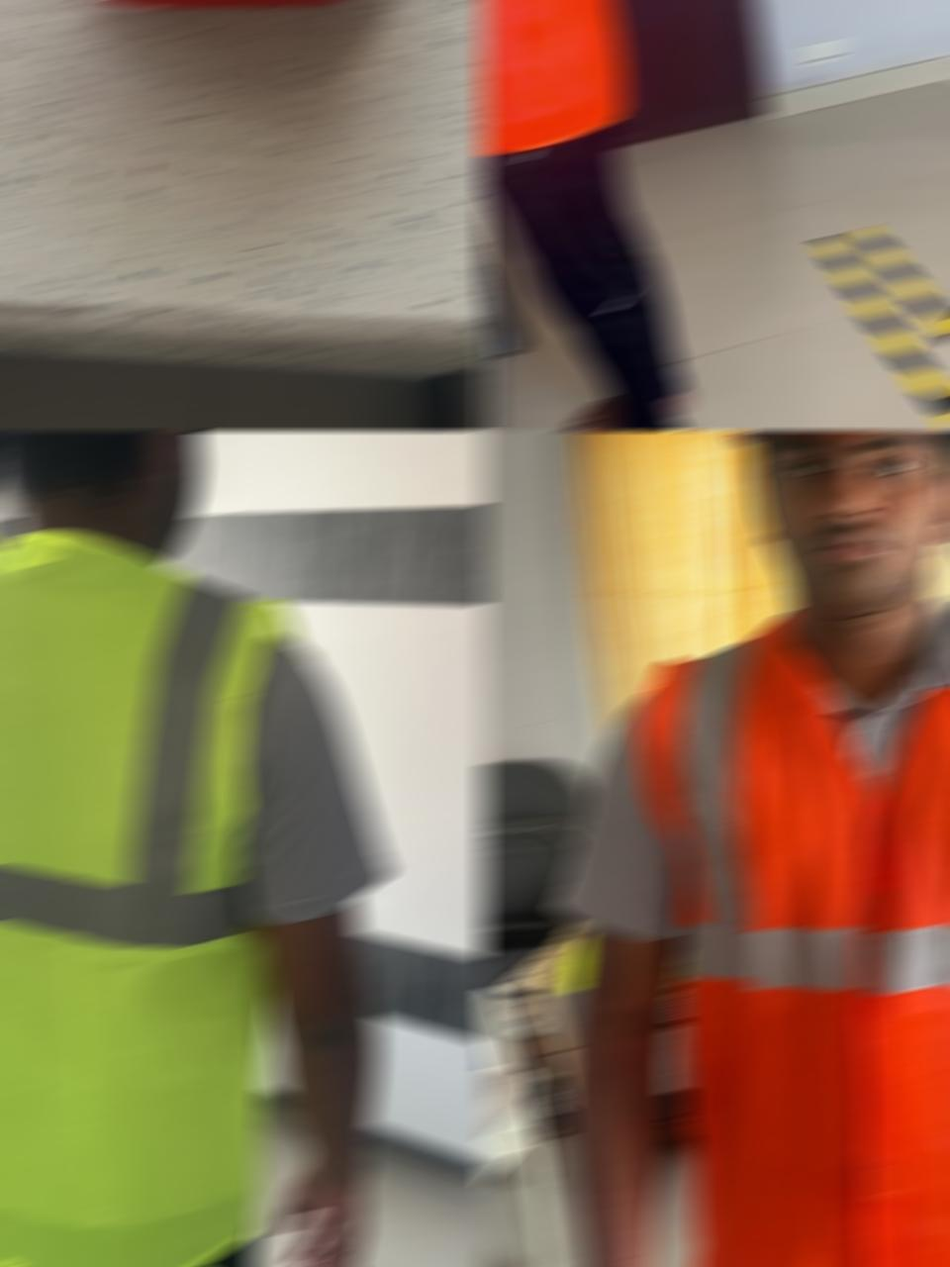BorderLine: (810, 226, 950, 430)
No_Helmet: (0, 432, 216, 562)
Person: (548, 432, 950, 1266), (0, 432, 392, 1266), (479, 1, 692, 430)
Vest: (0, 531, 305, 1266), (634, 608, 950, 1266), (479, 1, 628, 152)
